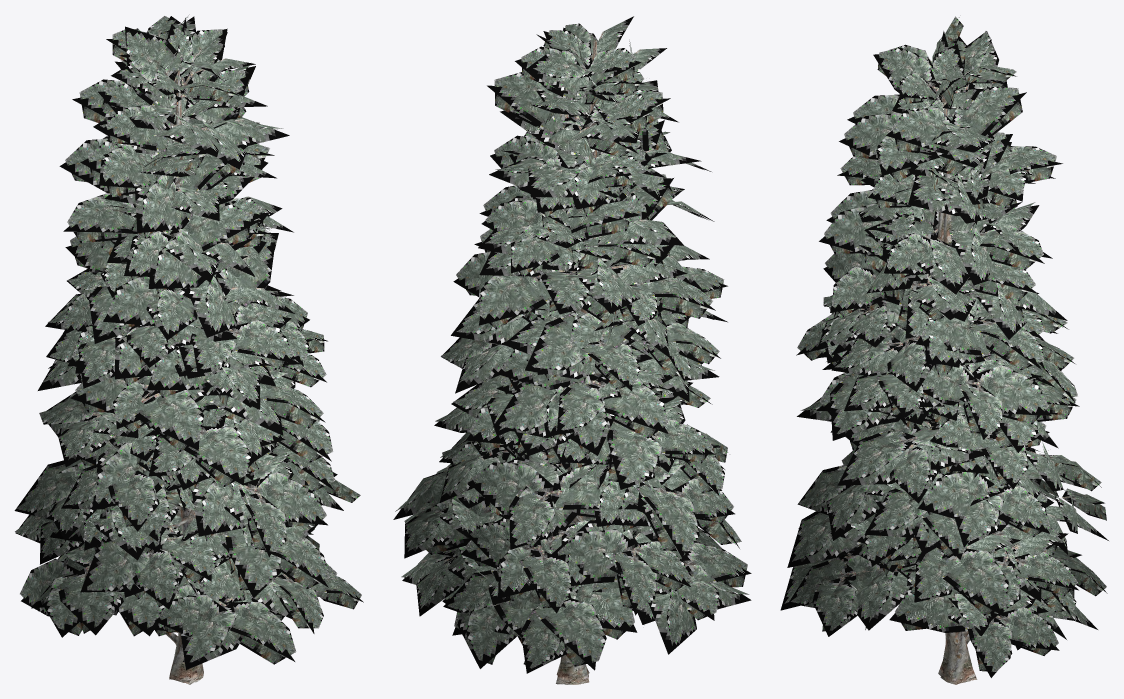
Rendered from Blue_Spruce_Desktop-transformed.glb.
3 renders of one model, left to right at view 1: azimuth 30°, elevation 25°; view 2: azimuth 150°, elevation 25°; view 3: azimuth 270°, elevation 25°, orthographic. The views are drawn at different scales.
Visible parts, largest first — view 1: Blue_Spruce_Desktop_LOD0; view 2: Blue_Spruce_Desktop_LOD0; view 3: Blue_Spruce_Desktop_LOD0.
Boxes of the visible parts, bbox=[...] form: Blue_Spruce_Desktop_LOD0: bbox=[14, 14, 363, 684]; Blue_Spruce_Desktop_LOD0: bbox=[393, 16, 751, 684]; Blue_Spruce_Desktop_LOD0: bbox=[780, 16, 1108, 684].
Bounding box in the file's own units: 9.73 × 19.89 × 9.32.
Materials: 2 (2 with a texture image).
